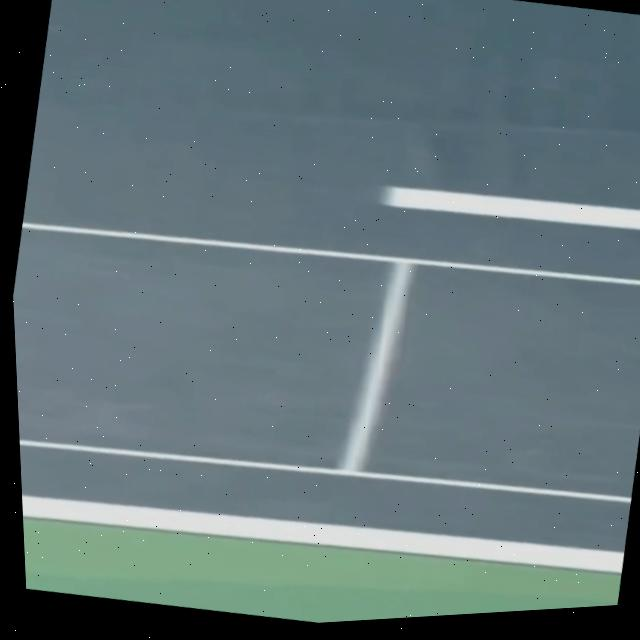center: (382, 185, 640, 228)
right: (22, 493, 623, 570)
